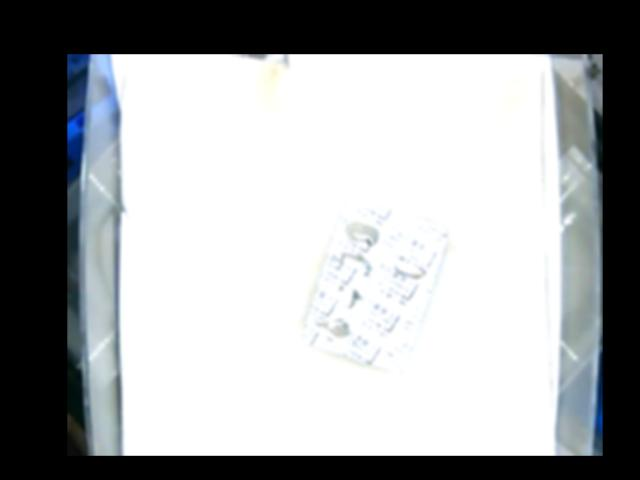Medicine: (304, 198, 450, 363)
